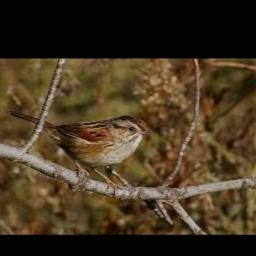Sparrow: (10, 111, 151, 196)
